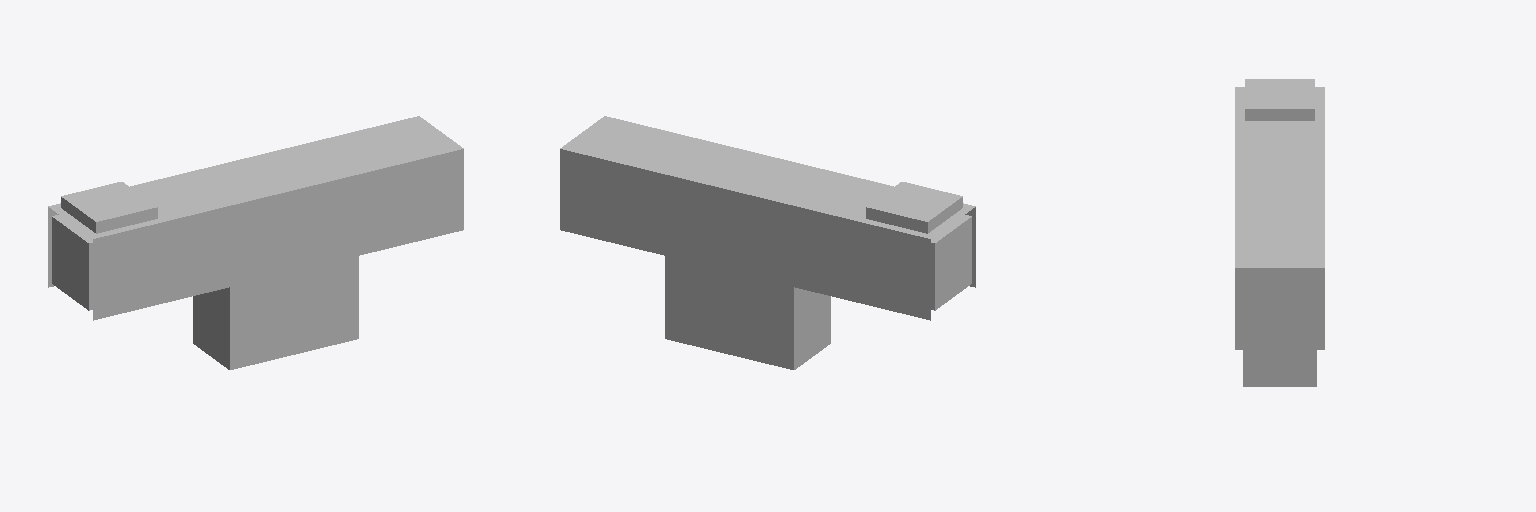
The model's file is Scooter Tutorial Level.obj.
3 views of the same model, side by side, from view 1: azimuth 30°, elevation 25°; view 2: azimuth 150°, elevation 25°; view 3: azimuth 270°, elevation 25° (orthographic).
Parts seen in each view (by area): view 1: Cube.001; view 2: Cube.001; view 3: Cube.001.
Boxes of the visible parts, x1,y1,x2,y2 form: Cube.001: [48, 116, 463, 369]; Cube.001: [560, 116, 975, 369]; Cube.001: [1235, 79, 1324, 386].
Size of the model in its own units: 9.55 by 4.42 by 2.